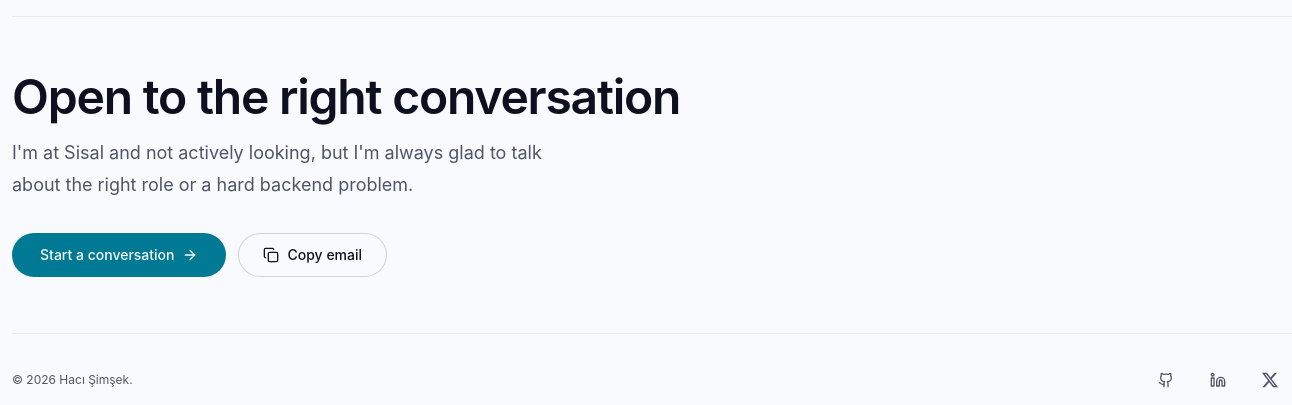
Test case: Footer › says so when it opens the mail client instead
Click the button "Copy email" at point(313, 255), box left=238, top=233, right=387, bottom=277
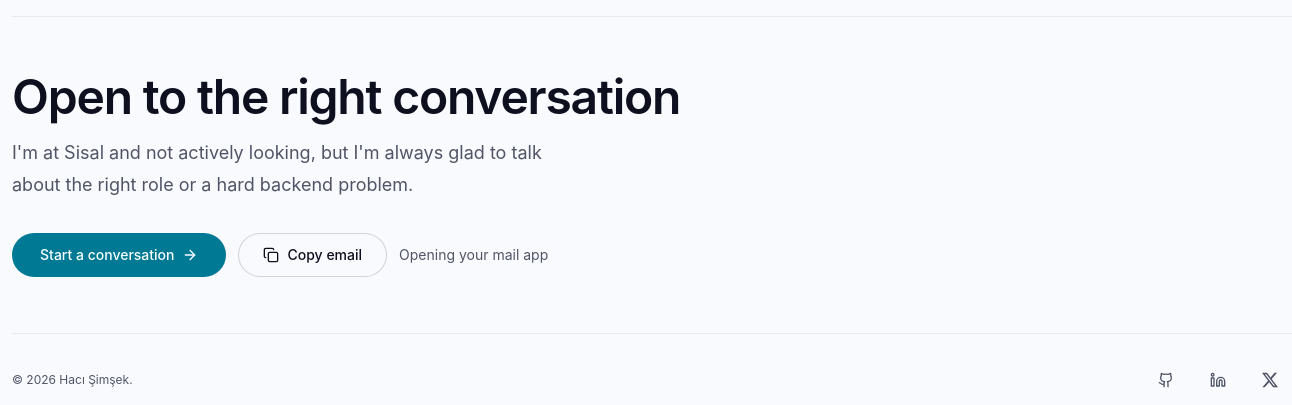
expect the message reads "Opening your mail app": met, box left=399, top=246, right=548, bottom=263
